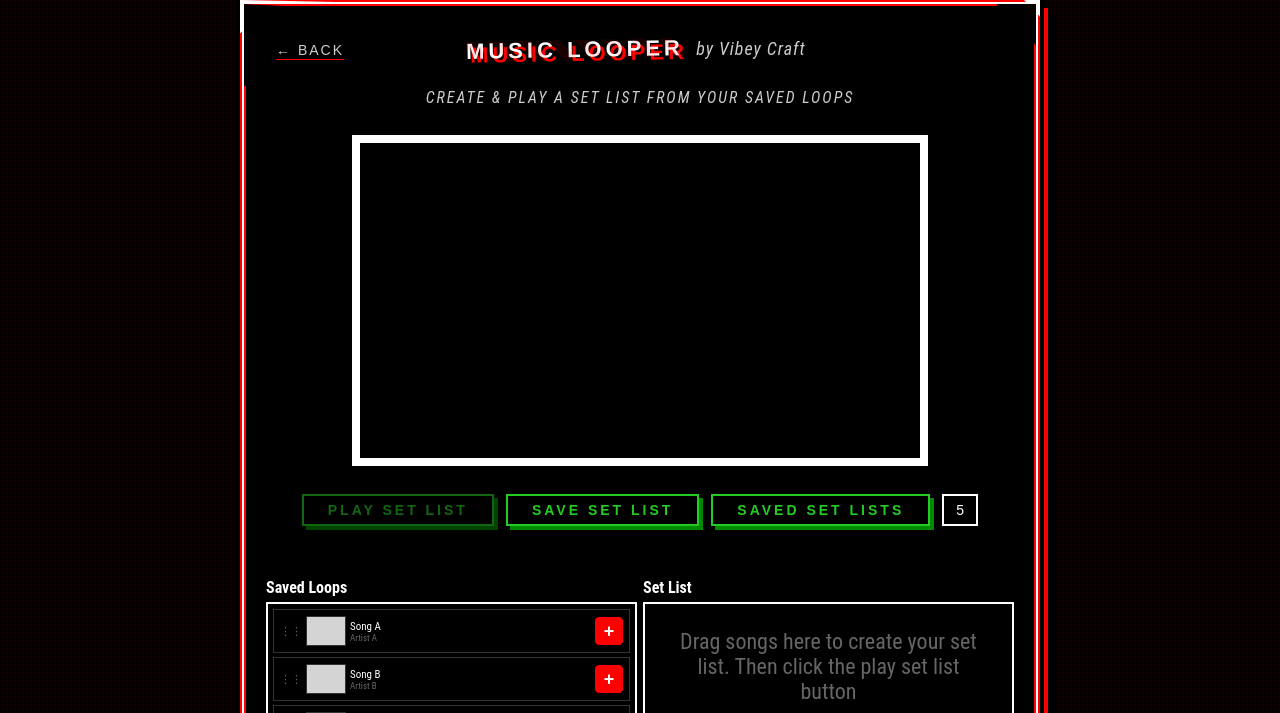
Test: SetList save UX › creates and loads a new saved set list when saving a brand-new working set list
The width and height of the screenshot is (1280, 713).
Click the button named "add song a to set list".
click(609, 631)  # box [595,617,623,645]
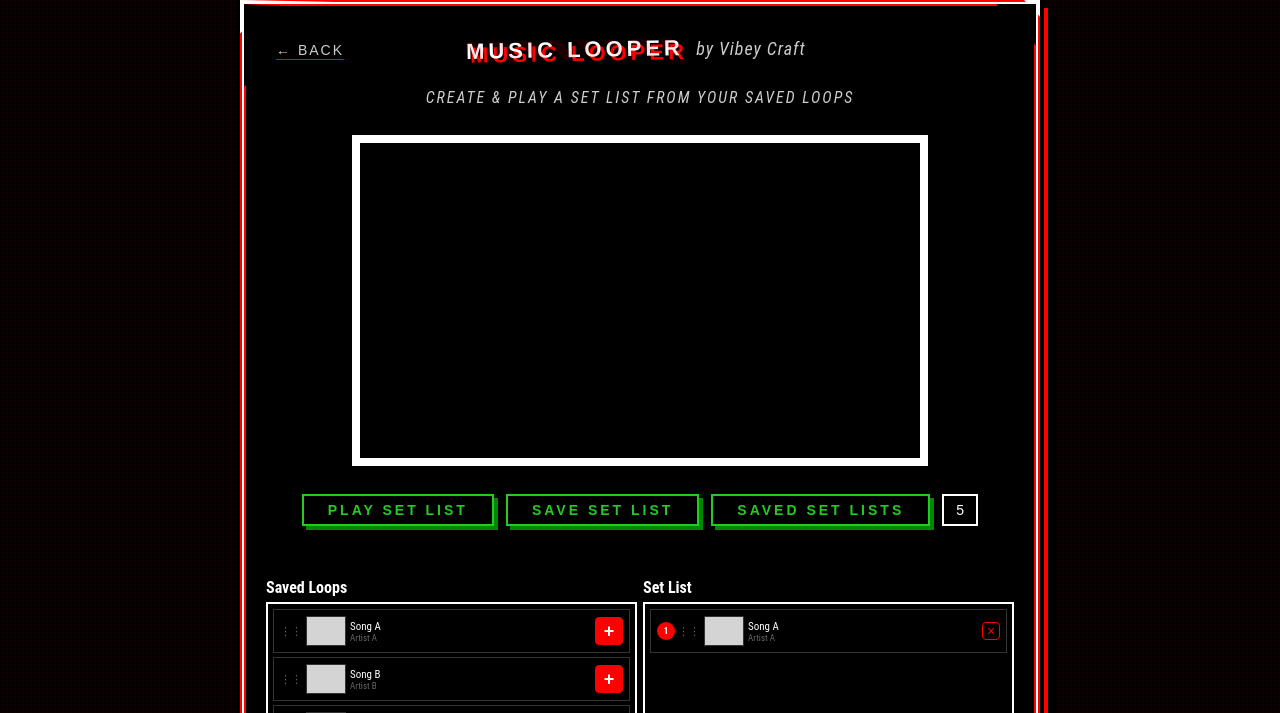
Expected: the text "loaded:" is not shown
Click the button "Save Set List".
click(603, 510)  # box [506,494,699,526]
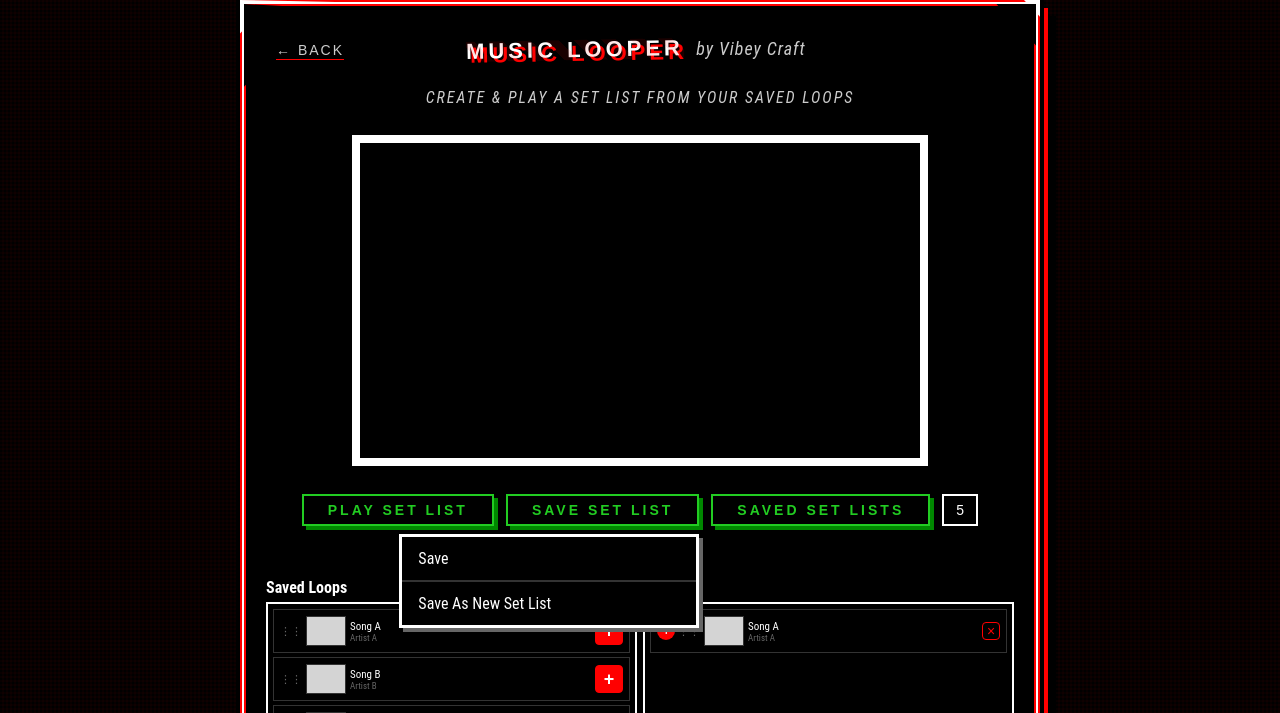
Click the button "Save".
click(433, 558)  # box [402,537,696,582]
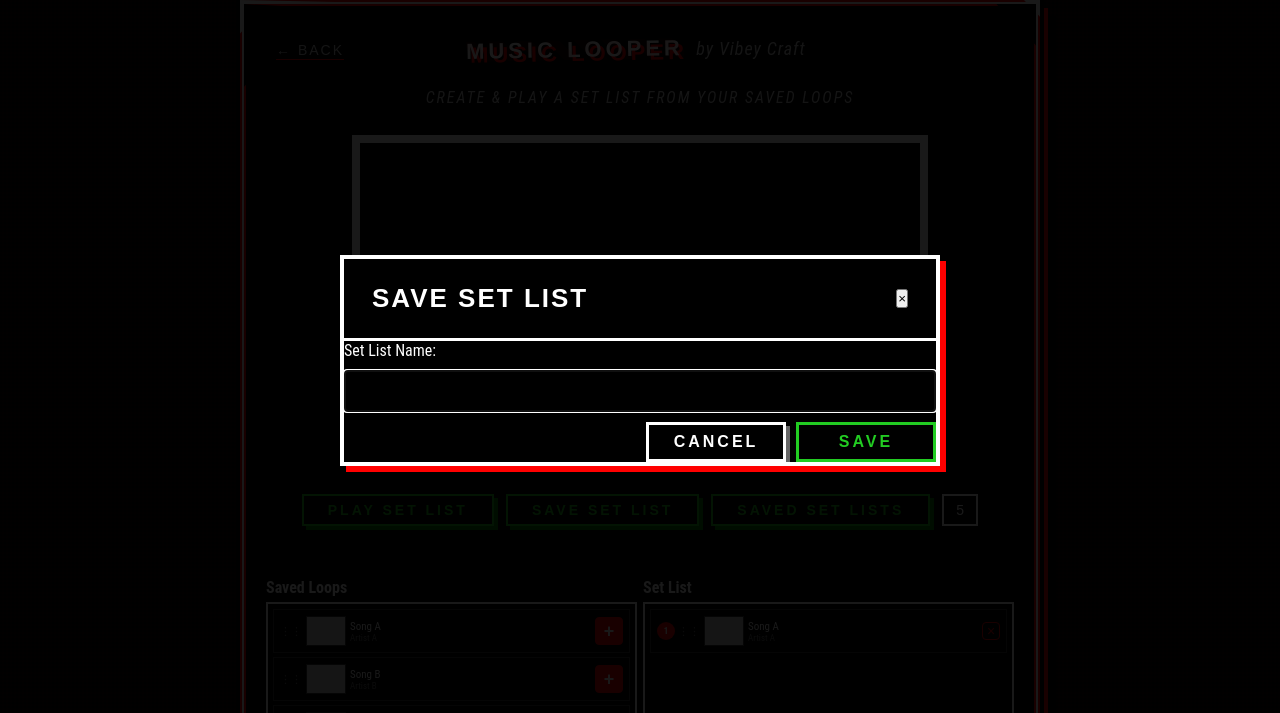
Type "Fresh Set" into the field labelled "Set List Name:".
click(640, 390); type("Fresh Set")  # box [344,370,936,412]
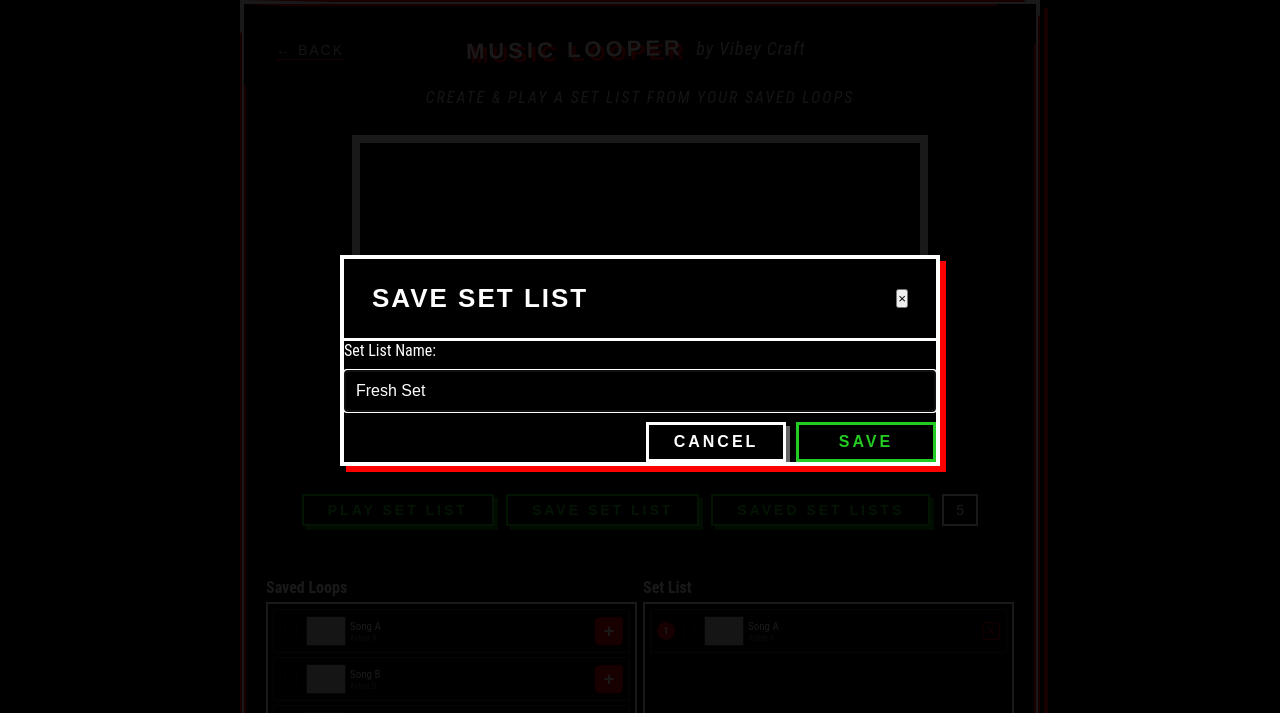
Click the button "Save".
click(866, 442)  # box [796,422,936,462]
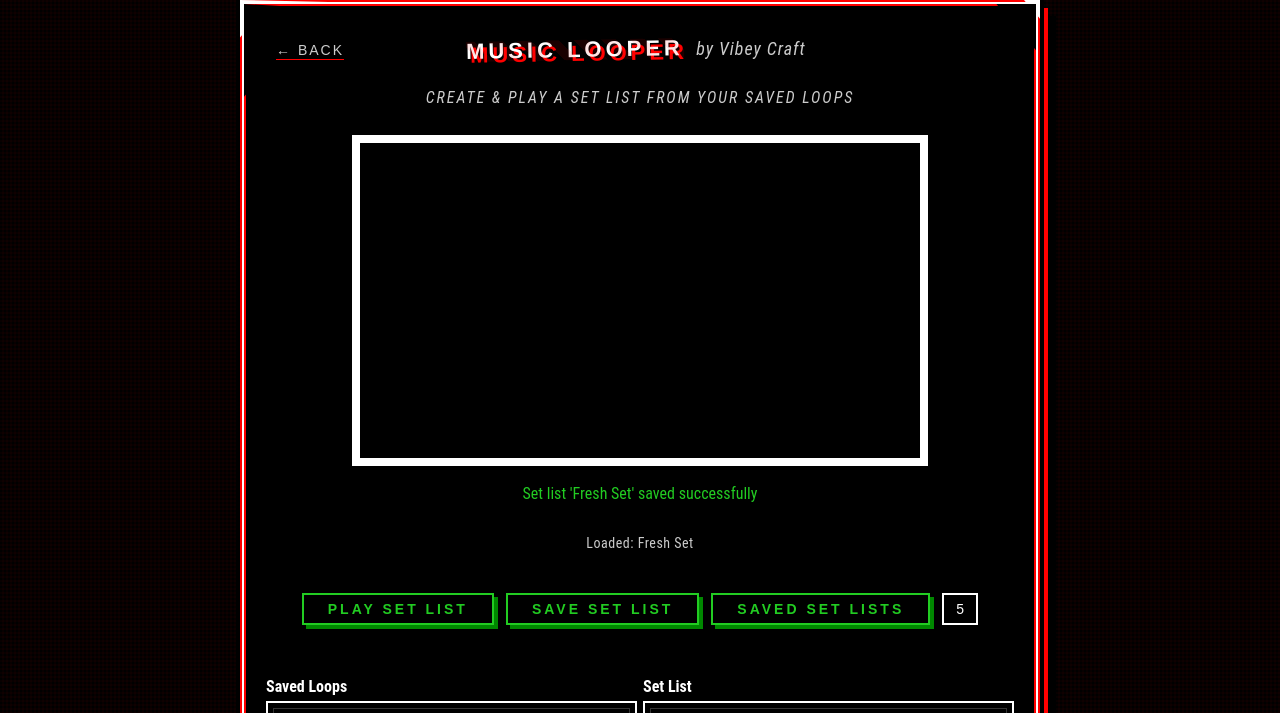
Now the text "Loaded: Fresh Set" is shown, box [586,535,694,551]
